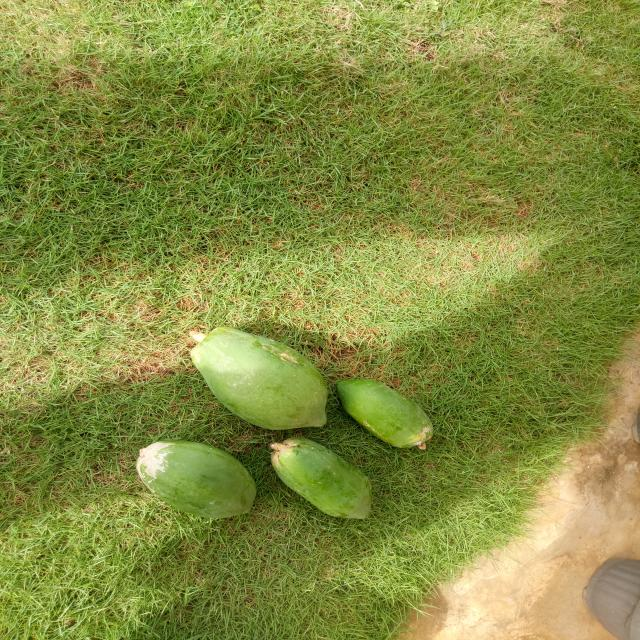Pepaya unrippen: (177, 317, 333, 434), (135, 425, 260, 522), (331, 374, 442, 454), (269, 439, 376, 516)
